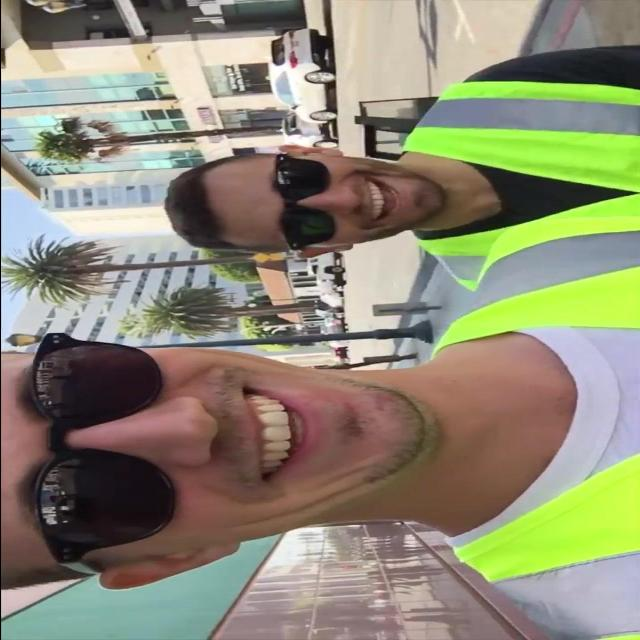jacket: (413, 216, 640, 630), (402, 62, 636, 301)
